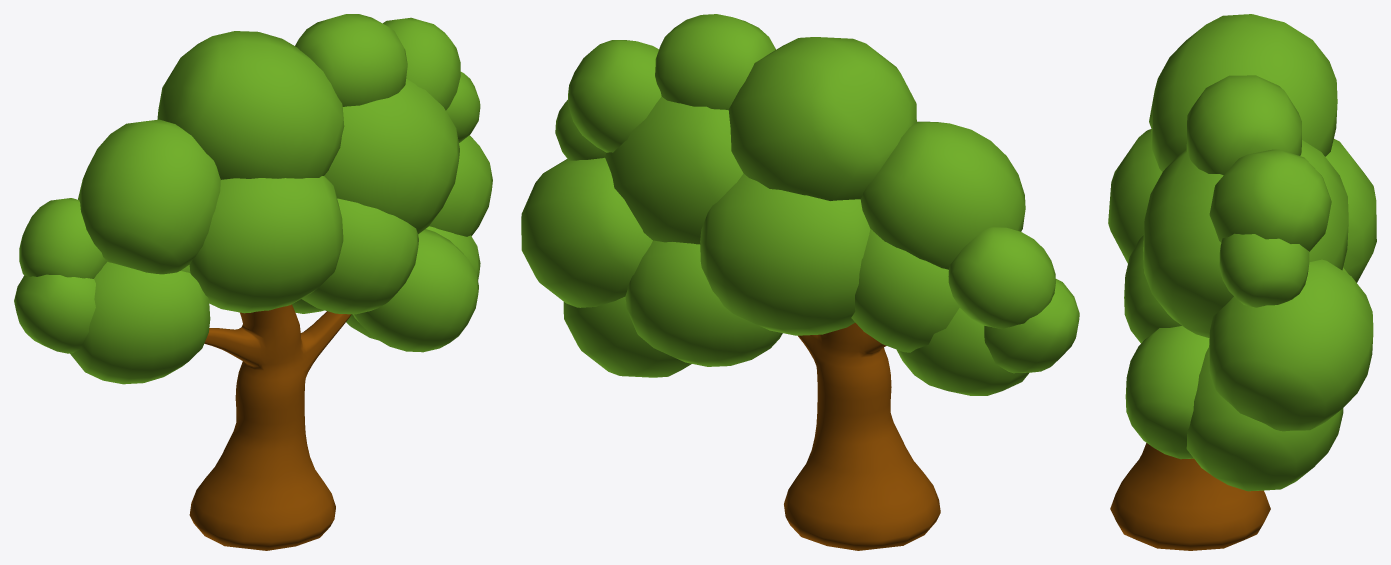
The model's file is Large Tree.fbx.
3 renders of one model, left to right at view 1: azimuth 30°, elevation 25°; view 2: azimuth 150°, elevation 25°; view 3: azimuth 270°, elevation 25°, orthographic. The views are drawn at different scales.
Visible parts, largest first — view 1: tree2:polySurface2; view 2: tree2:polySurface2; view 3: tree2:polySurface2.
Boxes of the visible parts, left/top/right/bottom form: tree2:polySurface2: left=14, top=14, right=492, bottom=550; tree2:polySurface2: left=521, top=14, right=1079, bottom=550; tree2:polySurface2: left=1108, top=14, right=1376, bottom=550.
Bounding box in the file's own units: 11.62 × 10.69 × 5.16.
